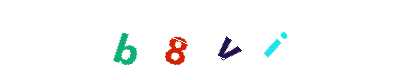8: (136, 0, 216, 80)
B: (131, 0, 211, 80)
I: (188, 0, 268, 80)
V: (165, 0, 245, 80)
